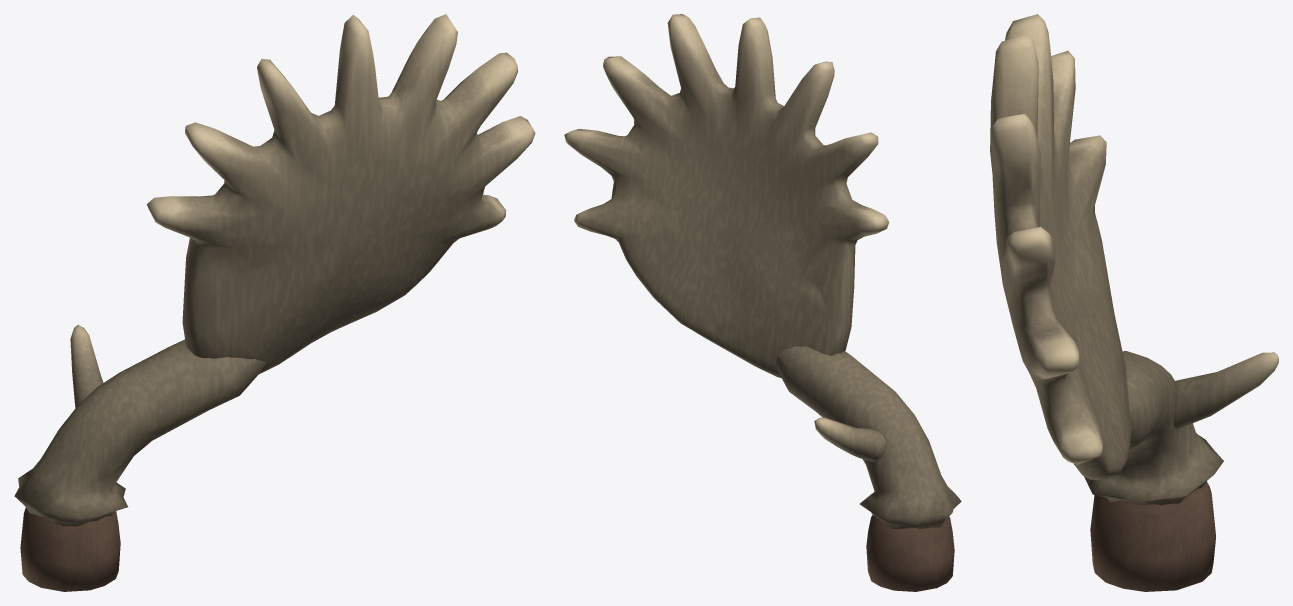
Rendered from cpart_antler_palmate.glb.
3 views of the same model, side by side, from view 1: azimuth 30°, elevation 25°; view 2: azimuth 150°, elevation 25°; view 3: azimuth 270°, elevation 25° (orthographic). The views are drawn at different scales.
Parts seen in each view (by area): view 1: AntlerPalmate, AntlerPalmatePedicle; view 2: AntlerPalmate, AntlerPalmatePedicle; view 3: AntlerPalmate, AntlerPalmatePedicle.
Part boxes in pixels (x1=…): AntlerPalmate: x1=14, y1=14, x2=535, y2=526; AntlerPalmatePedicle: x1=20, y1=507, x2=120, y2=591; AntlerPalmate: x1=564, y1=14, x2=961, y2=528; AntlerPalmatePedicle: x1=866, y1=515, x2=954, y2=591; AntlerPalmate: x1=990, y1=14, x2=1278, y2=505; AntlerPalmatePedicle: x1=1090, y1=482, x2=1215, y2=591.
Bounding box in the file's own units: 0.2627 × 0.2827 × 0.1098.
2 materials, 2 textured.
